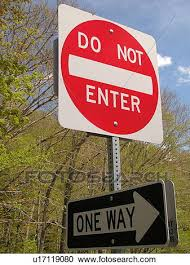doNotEnter: (54, 1, 166, 147)
oneWay: (62, 177, 172, 249)
